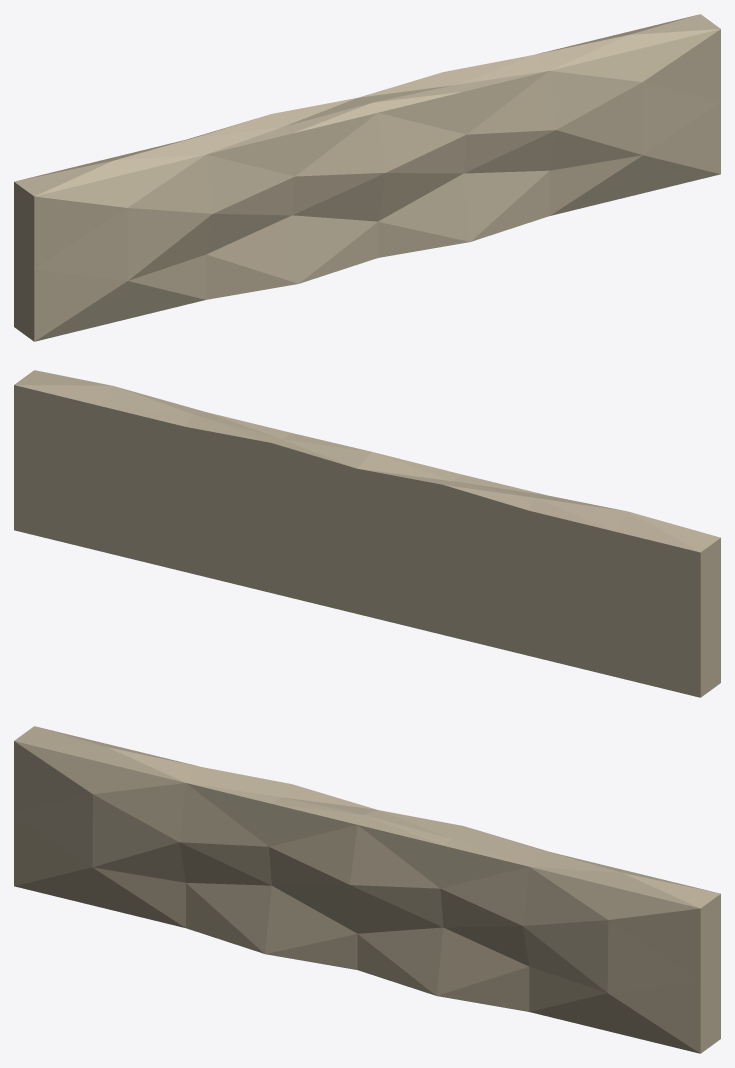
File: Стена Средняя ЛВЛ2 (2).FBX
The picture shows the model from 3 angles, top to bottom: view 1: azimuth 30°, elevation 25°; view 2: azimuth 150°, elevation 25°; view 3: azimuth 330°, elevation 25°; orthographic projection.
Parts seen in each view (by area): view 1: Box222; view 2: Box222; view 3: Box222.
Boxes of the visible parts, box(x1,y1,x2,y2) form: Box222: box(14, 14, 720, 341); Box222: box(14, 370, 720, 697); Box222: box(14, 726, 720, 1053).
Bounding box in the file's own units: 659 × 142 × 46.69.
